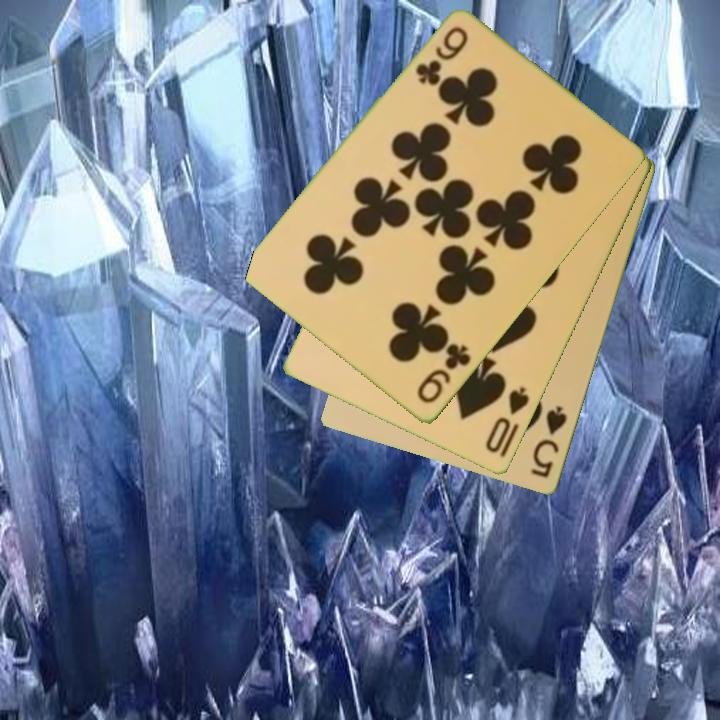10s: (482, 383, 533, 457)
5s: (528, 402, 571, 481)
9c: (413, 340, 474, 407), (412, 23, 472, 89)
